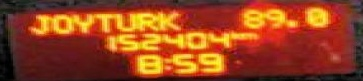-: (282, 18, 294, 29)
0: (302, 5, 330, 27), (183, 30, 206, 49)
1: (102, 34, 114, 51)
2: (140, 31, 160, 50)
4: (206, 30, 229, 47), (160, 31, 183, 48)
5: (170, 51, 196, 74), (114, 32, 137, 51)
8: (129, 53, 160, 74), (239, 9, 262, 26)
9: (195, 51, 221, 72), (264, 6, 284, 27)
X: (48, 11, 71, 34), (157, 10, 183, 30), (25, 11, 46, 35), (134, 10, 155, 31), (71, 11, 91, 32), (112, 10, 132, 31), (94, 10, 109, 32), (241, 30, 254, 39), (163, 55, 170, 71), (229, 29, 239, 39)
